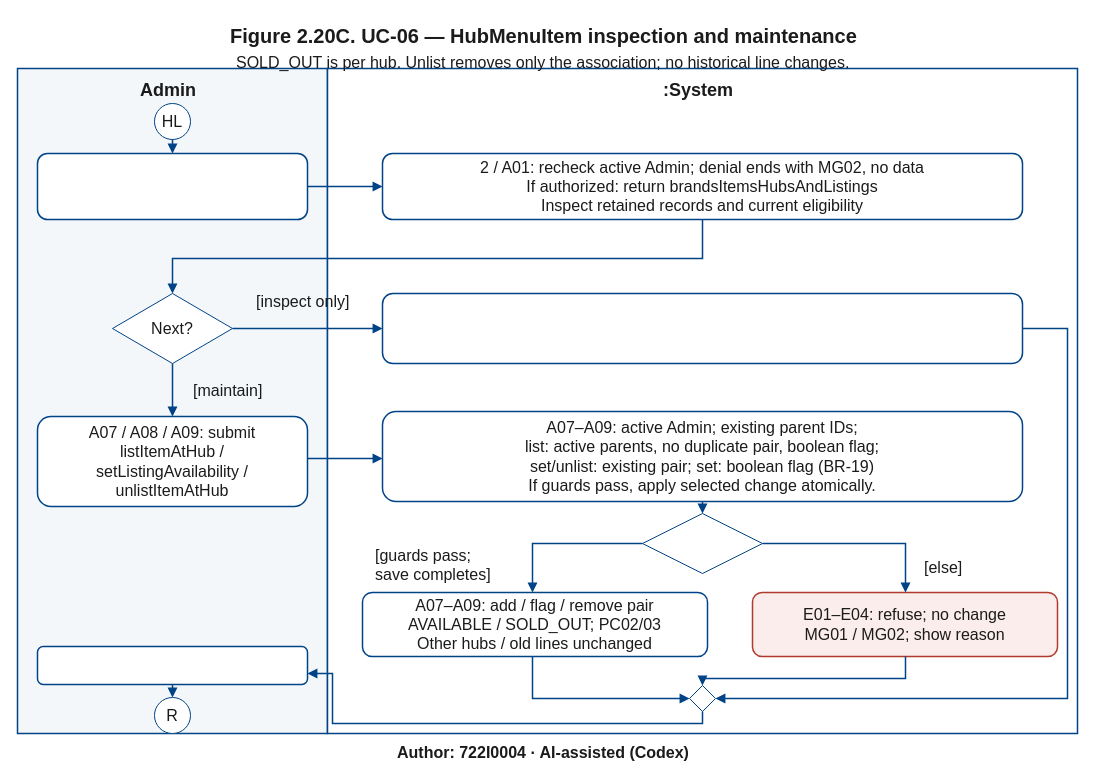
Image size: 1096x781. Some labels were removed from this diagram. Here are the shapes that lost their labels. From the top down, the box of each, then its label:
(36, 152, 308, 220): 1 / A01: request listCatalogue(hubId?)
(381, 292, 1023, 364): Read-only inspection No persistent rows changed
(642, 512, 762, 574): Saved?
(36, 645, 308, 685): Observe result; R to Part A
